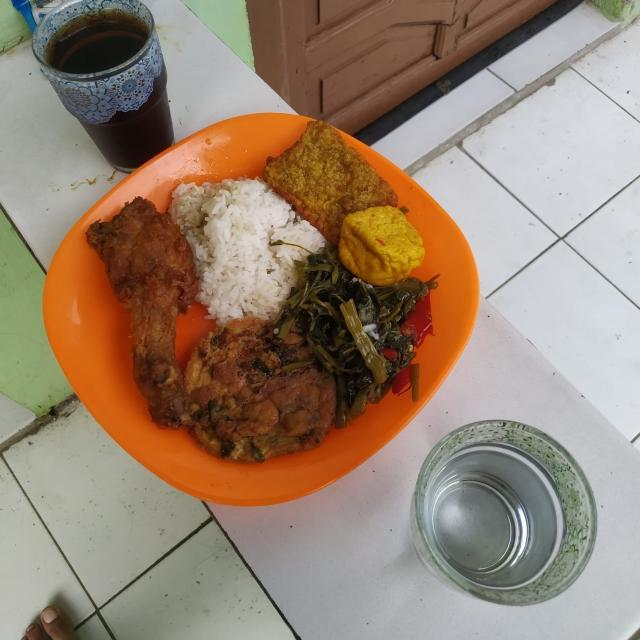ayam_goreng: (83, 174, 226, 448)
nasi_putih: (176, 158, 316, 322)
telur_ayam_dadar: (182, 284, 354, 464)
